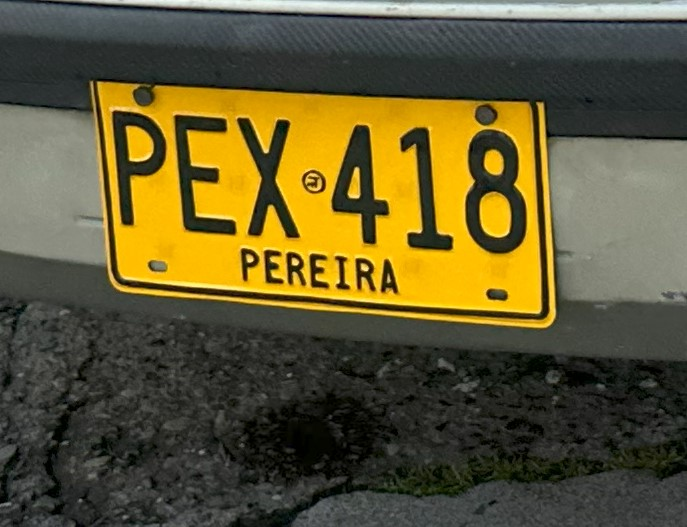number plate: (92, 81, 555, 327)
